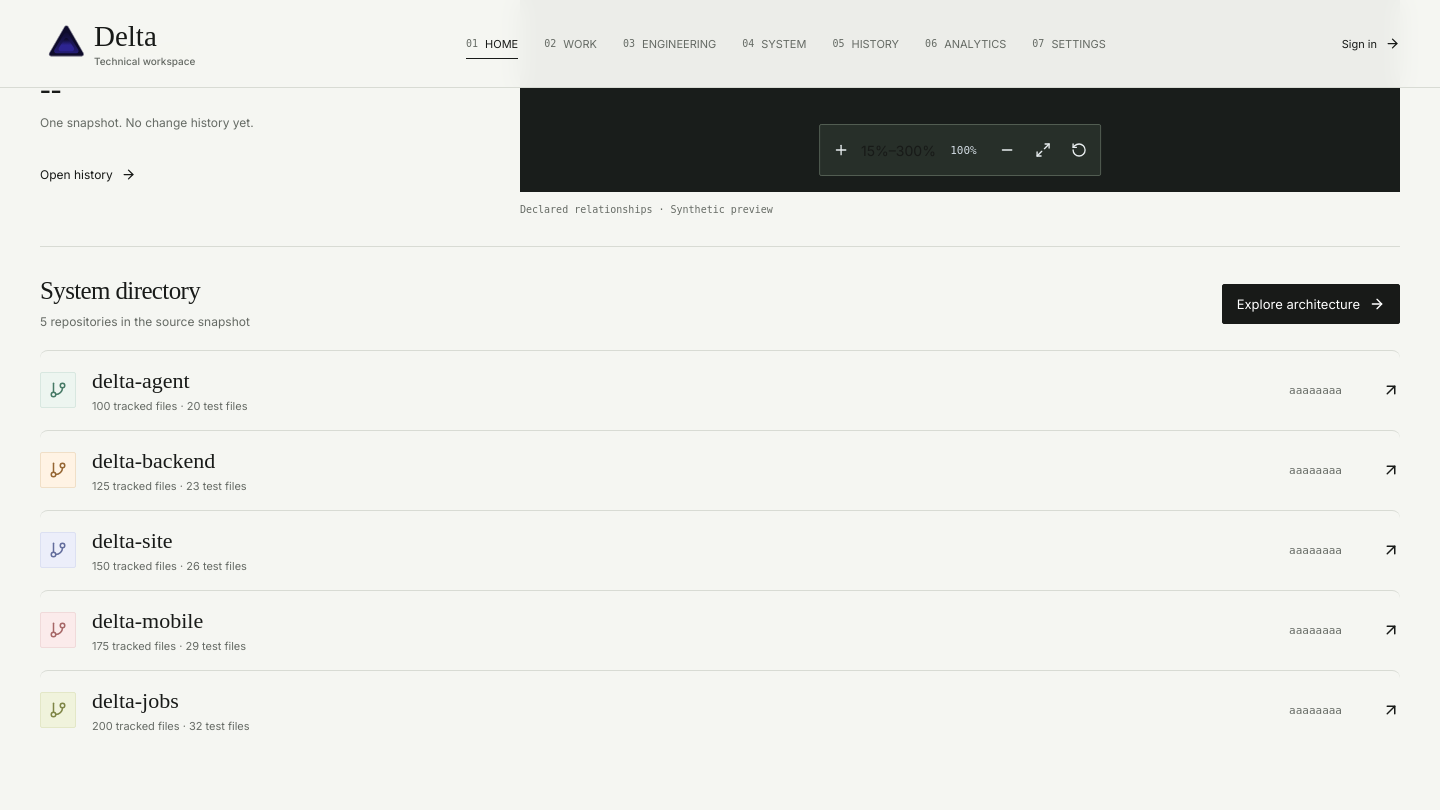
Test: navigates the directory, inspector and settings without dead controls
(page scrolled)
What coordinates should you click on to do the following:
click the button "delta-backend"
I would click on:
 (58, 470)
Its box is [40,430,1400,510].
(page scrolled)
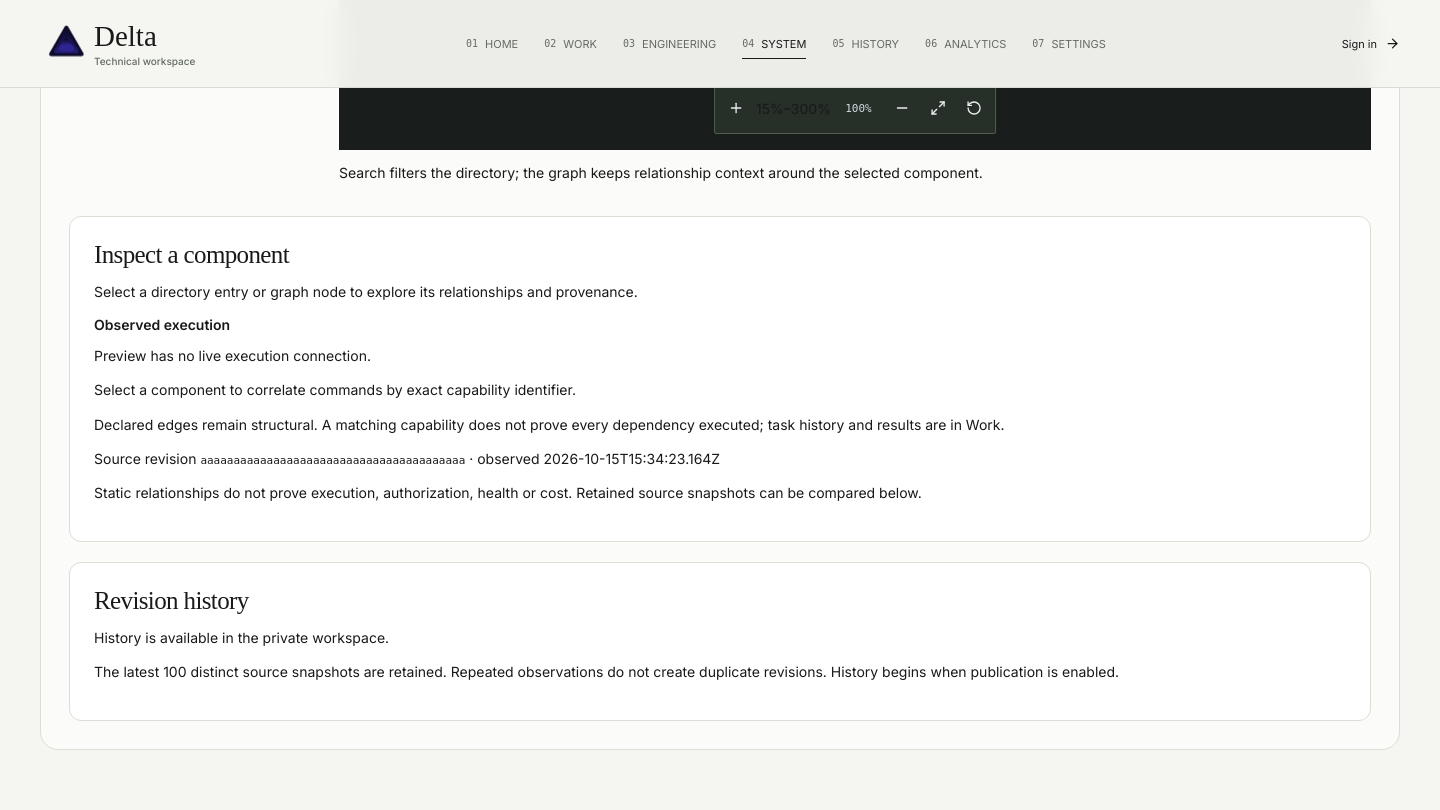
What coordinates should you click on to do the following:
click the link "07 Settings"
I would click on:
 (1069, 44)
Its box is [1032,24,1106,62].
(page scrolled)
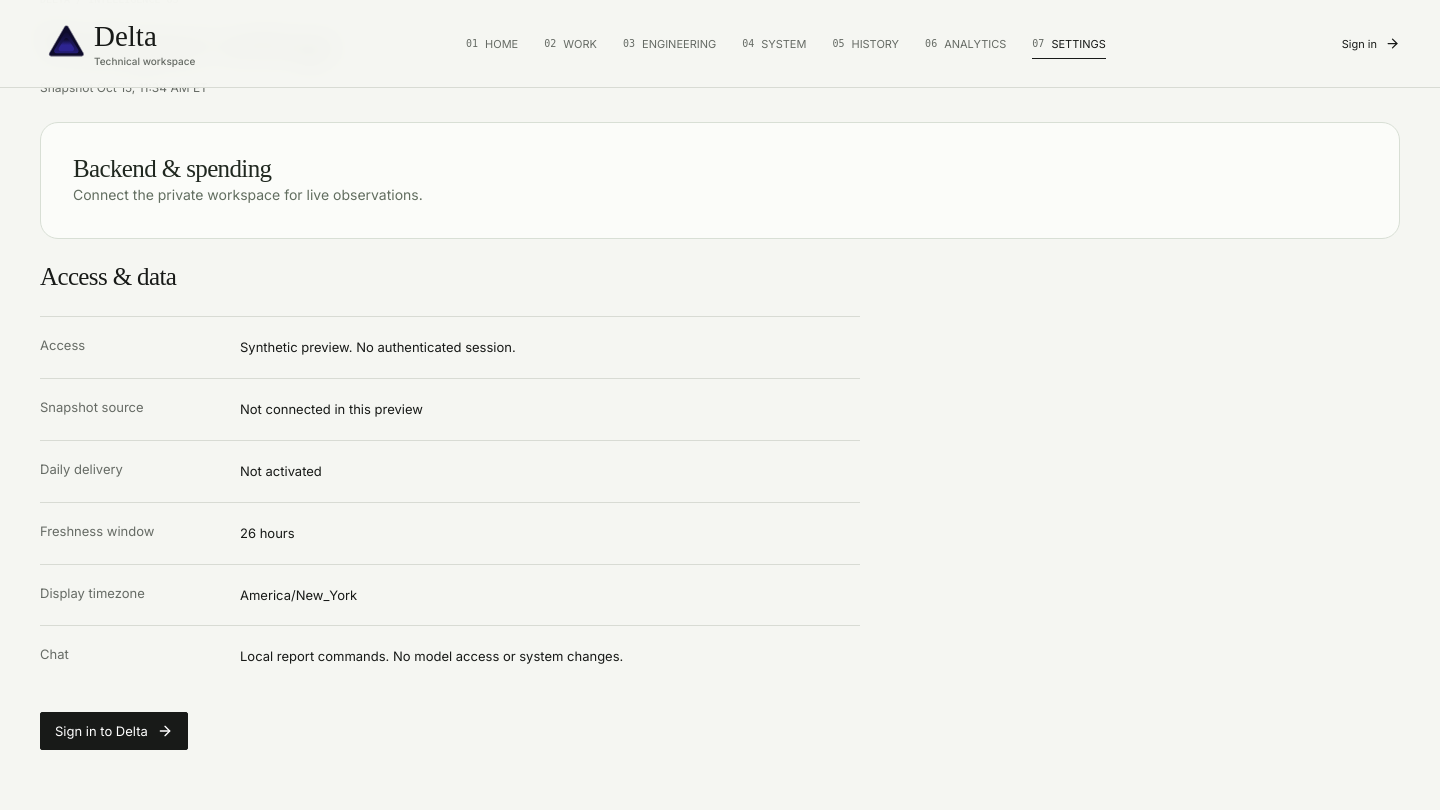
Check: the heading "Workspace settings" is shown, box [40,18,334,68]
Check: the text "Not activated" is shown, box [240,463,322,479]
What coordinates should you click on to do the following:
click the link "01 Home"
I would click on:
 (492, 44)
Its box is [466,24,518,62].
(page scrolled)
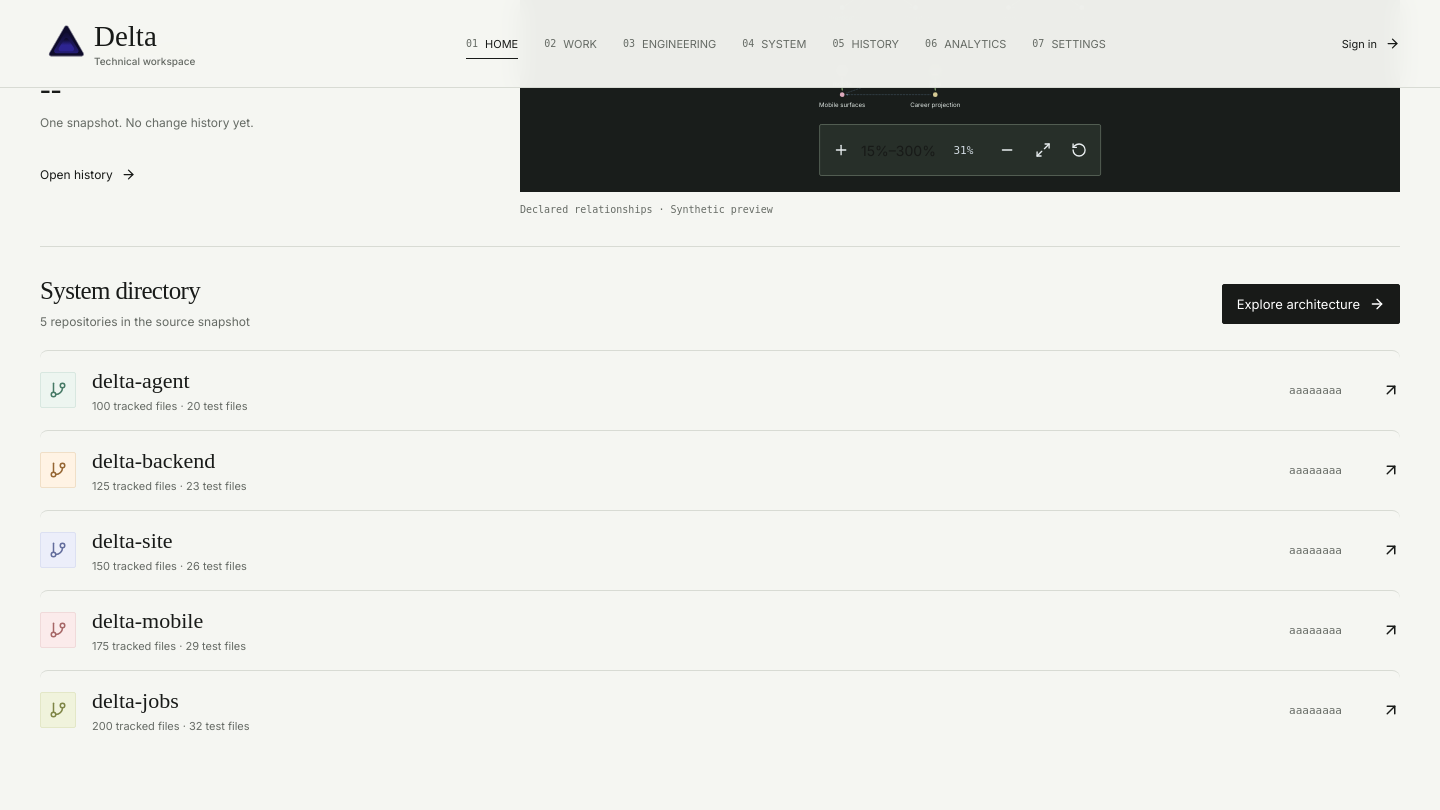
Check: the heading "System directory" is shown, box [40,277,200,304]
